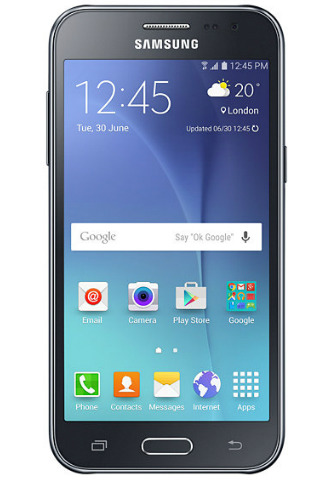mobile: (48, 2, 283, 473)
